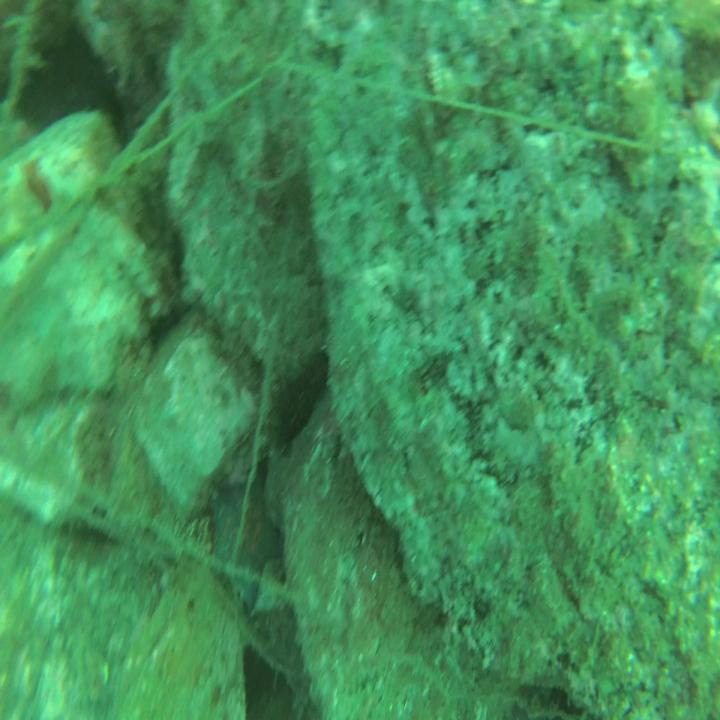starfish: (208, 468, 289, 615)
